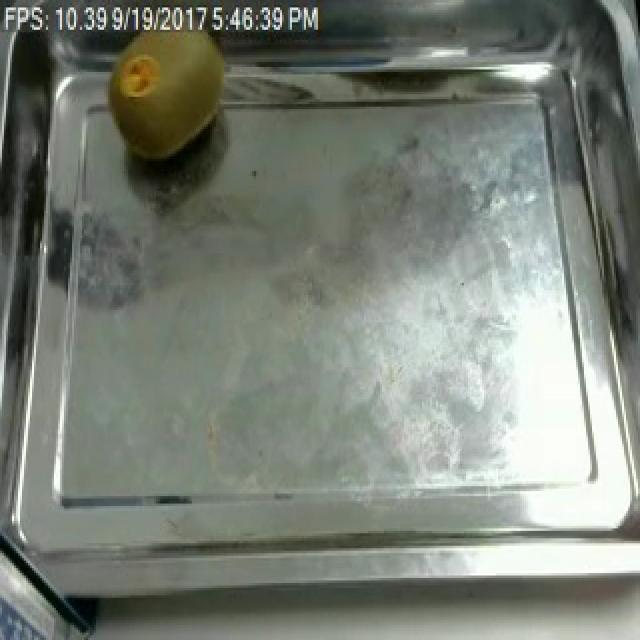Fruit: (100, 8, 234, 174)
